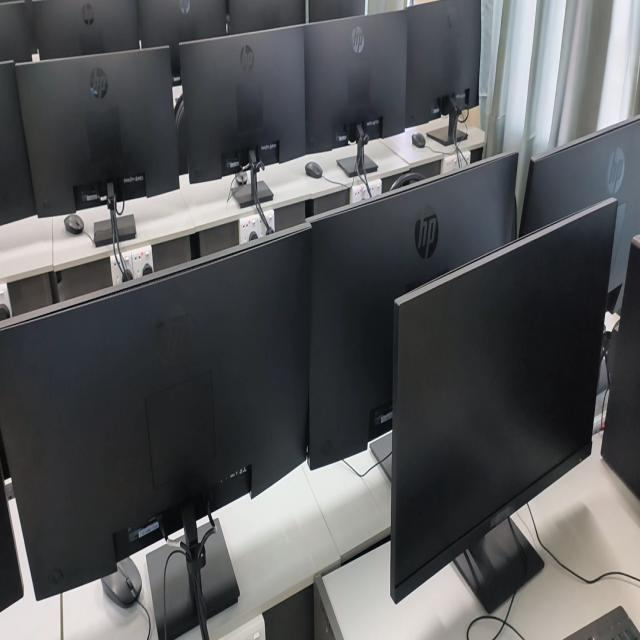Chair: (175, 95, 188, 173), (390, 172, 425, 190)
Cpu: (601, 235, 640, 500)
Keyboard: (564, 606, 640, 639)
Monitor: (0, 226, 310, 639), (390, 199, 617, 613), (308, 154, 517, 469), (16, 49, 179, 246), (178, 26, 306, 207), (519, 118, 640, 299), (302, 11, 407, 177), (405, 0, 480, 145), (138, 0, 225, 75), (33, 0, 139, 59), (0, 60, 36, 225), (0, 471, 23, 612), (228, 0, 304, 33), (0, 1, 36, 62), (309, 0, 365, 21)
Mouse: (101, 559, 141, 608), (64, 214, 84, 233), (305, 161, 322, 178), (412, 133, 425, 148)
